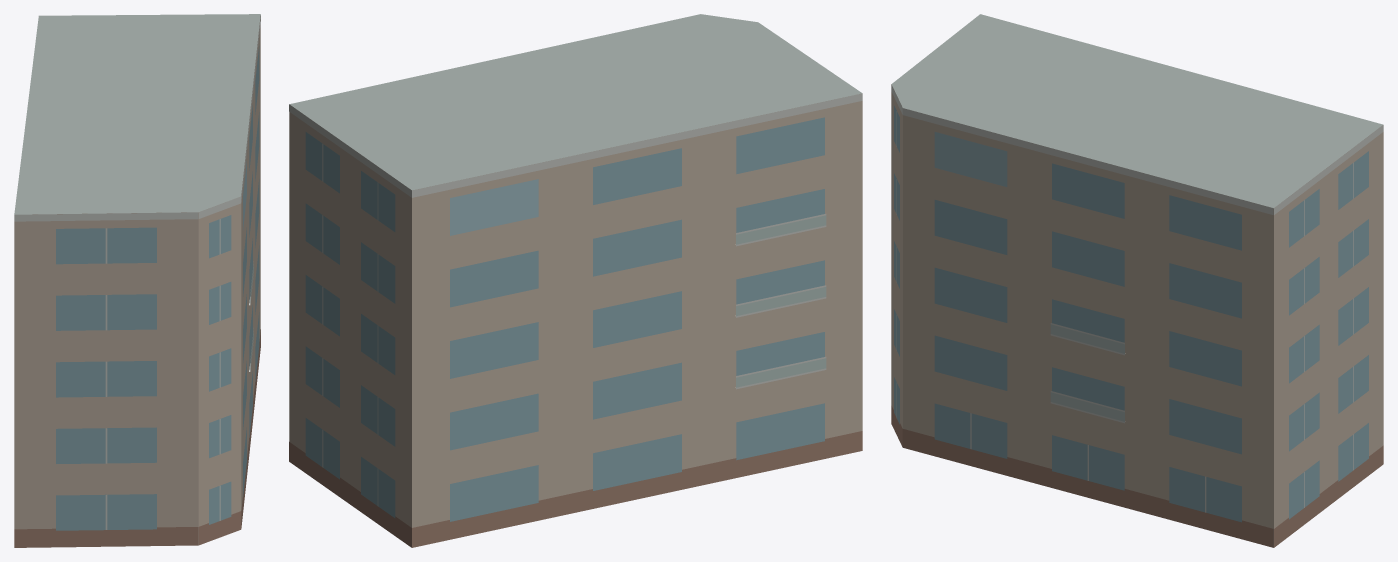
Rendered from survey-upis-32678163.glb.
3 renders of one model, left to right at view 1: azimuth 30°, elevation 25°; view 2: azimuth 150°, elevation 25°; view 3: azimuth 270°, elevation 25°, orthographic. The views are drawn at different scales.
Visible parts, largest first — view 1: survey-upis-32678163.tmp; view 2: survey-upis-32678163.tmp; view 3: survey-upis-32678163.tmp.
Part boxes in pixels (left/top/right/bottom): survey-upis-32678163.tmp: left=14, top=14, right=260, bottom=547; survey-upis-32678163.tmp: left=289, top=14, right=862, bottom=547; survey-upis-32678163.tmp: left=891, top=14, right=1383, bottom=547.
Bounding box in the file's own units: 14.36 × 11.7 × 15.37.
